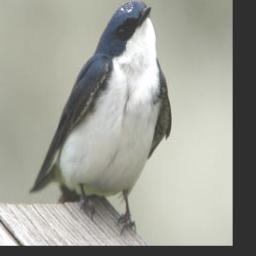Swallow: (28, 0, 173, 237)
